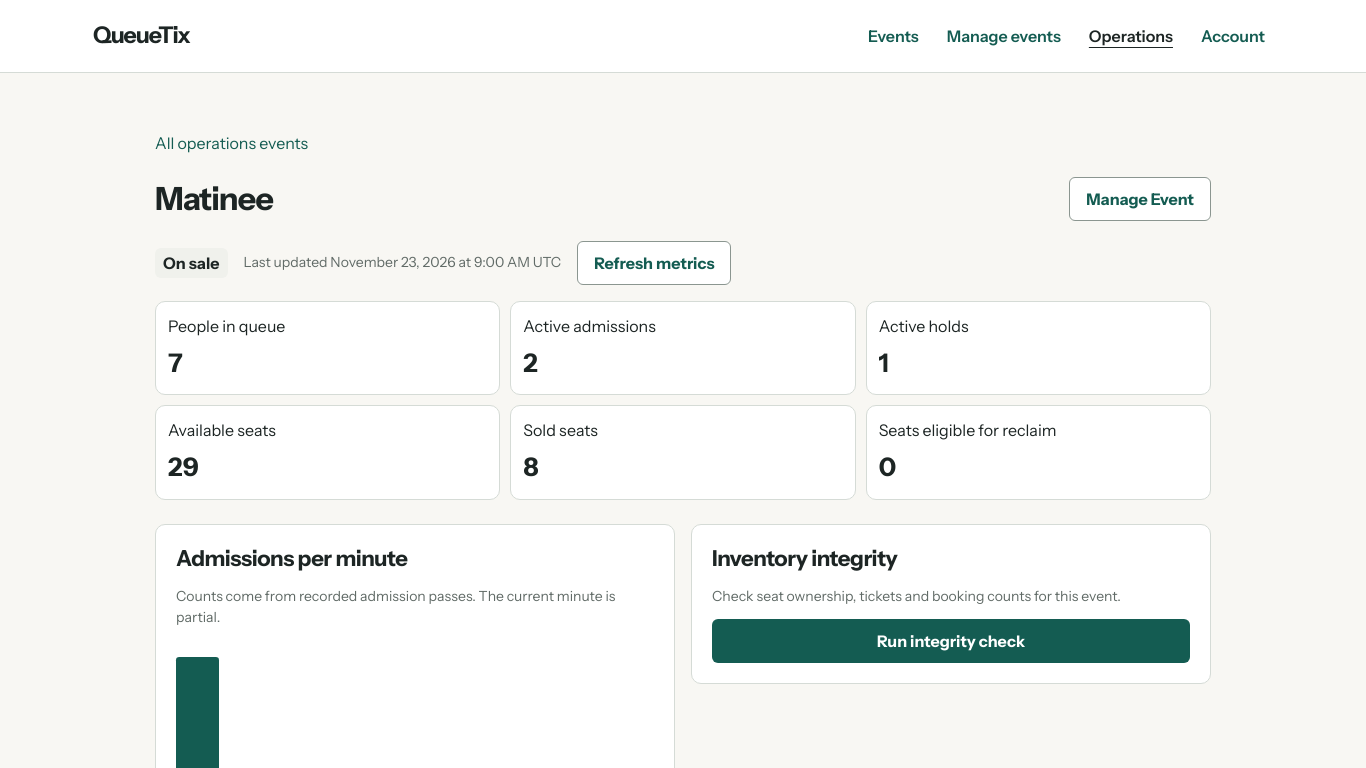
it: a failed integrity request demotes the prior PASS to history and a completed retry replaces it
This screenshot has width=1366, height=768.
Click the button "Run integrity check" at (951, 641), box [712,619,1190,663]
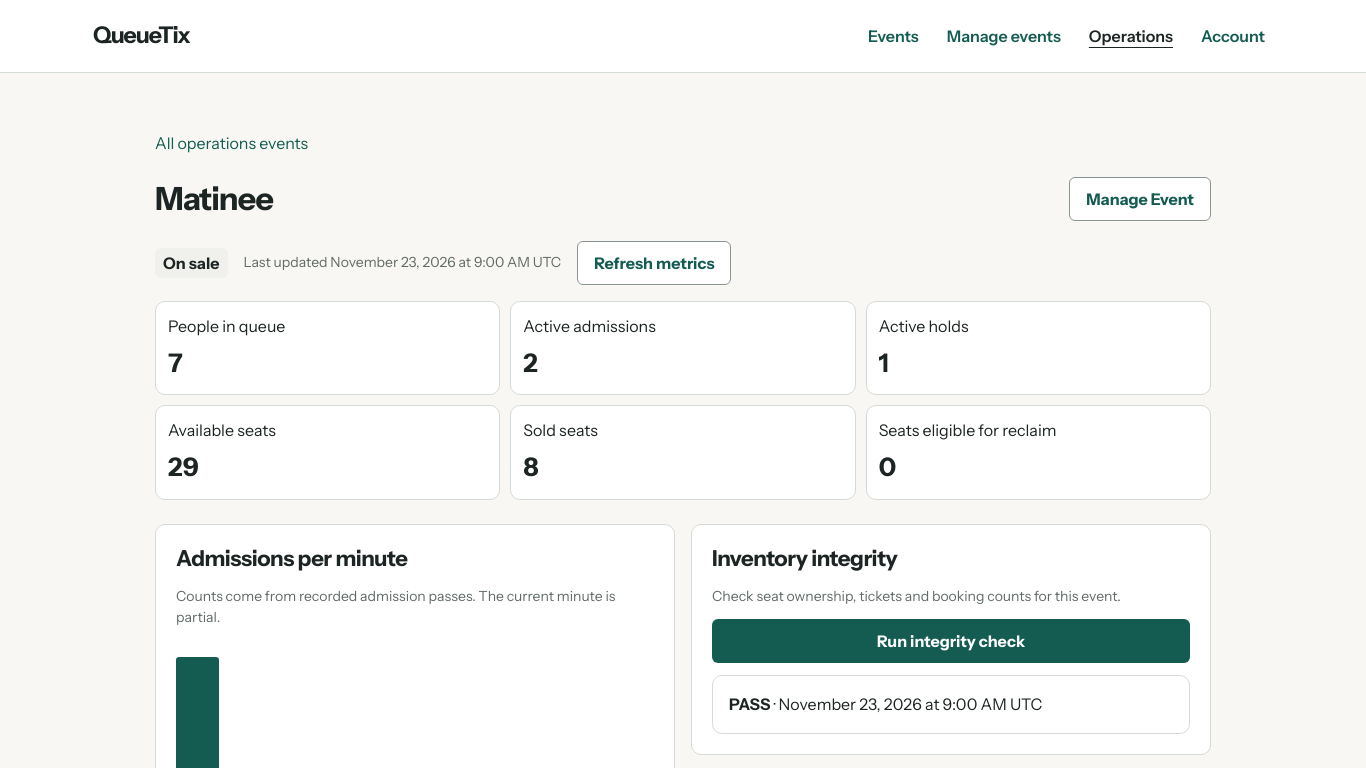
Expected: the message shows "PASS", [729,694,770,714]
Click the button "Run integrity check" at (951, 641), box [712,619,1190,663]
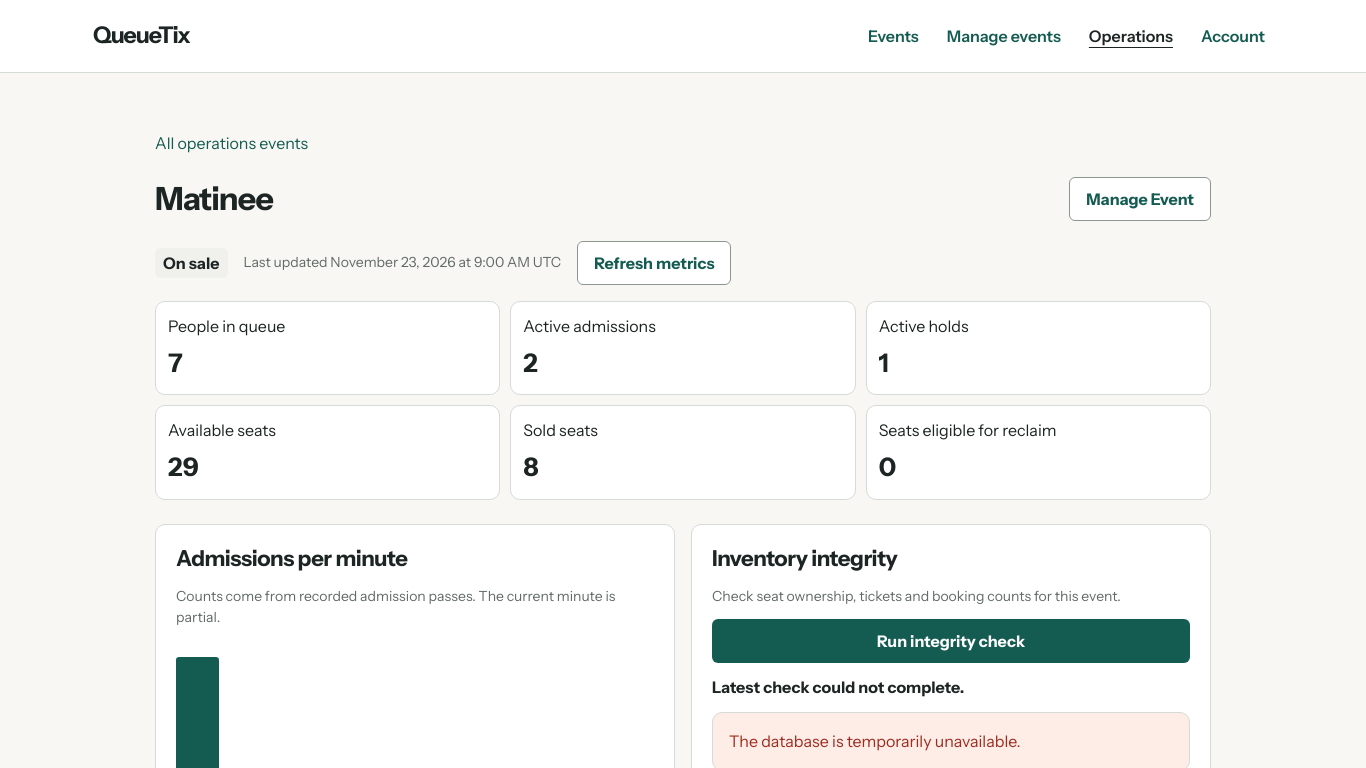
Expected: the text "Latest check could not complete." is shown, [712,677,964,697]
Expected: the message reads "The database is temporarily unavailable.", [729,731,1021,751]
Click the button "Run integrity check" at (951, 641), box [712,619,1190,663]
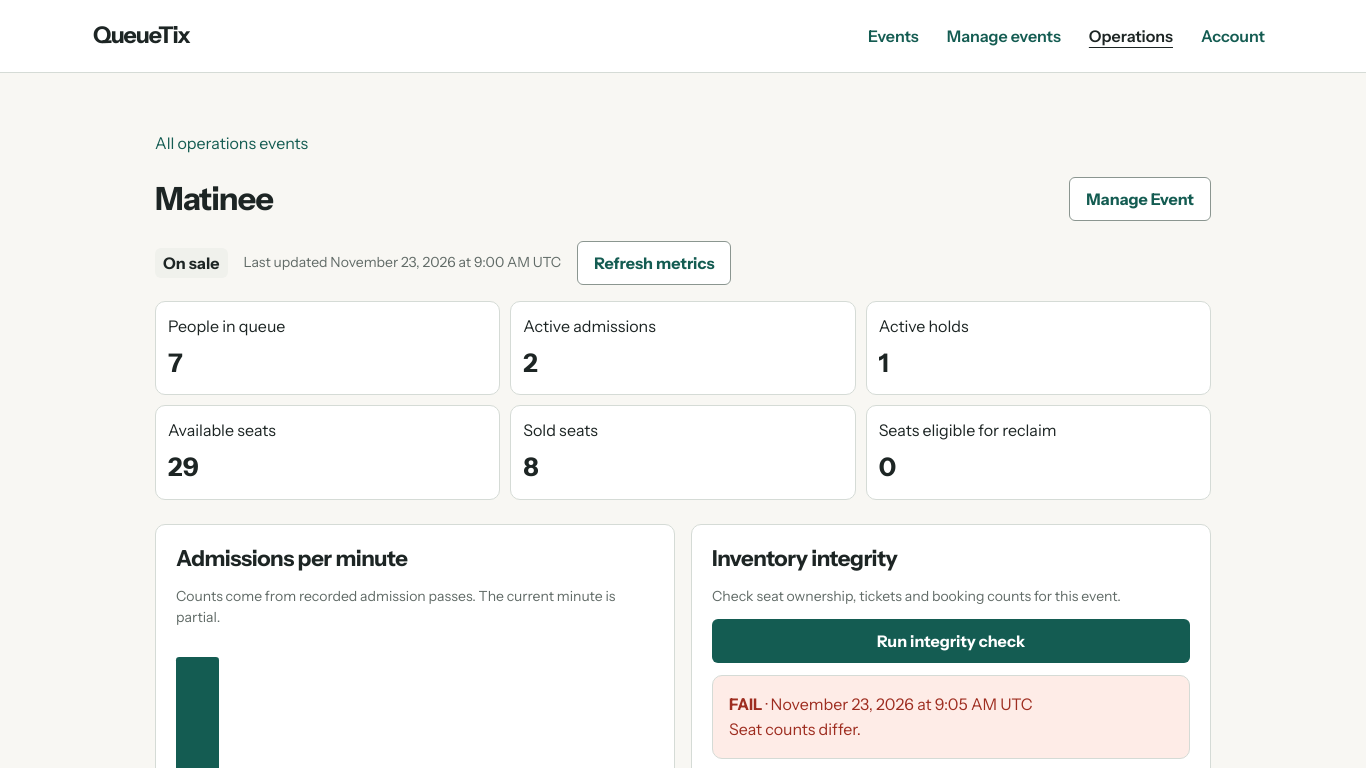
Expected: the list item "Seat counts differ." is shown, [729,719,861,739]
Expected: the message shows "FAIL", [729,694,762,714]
